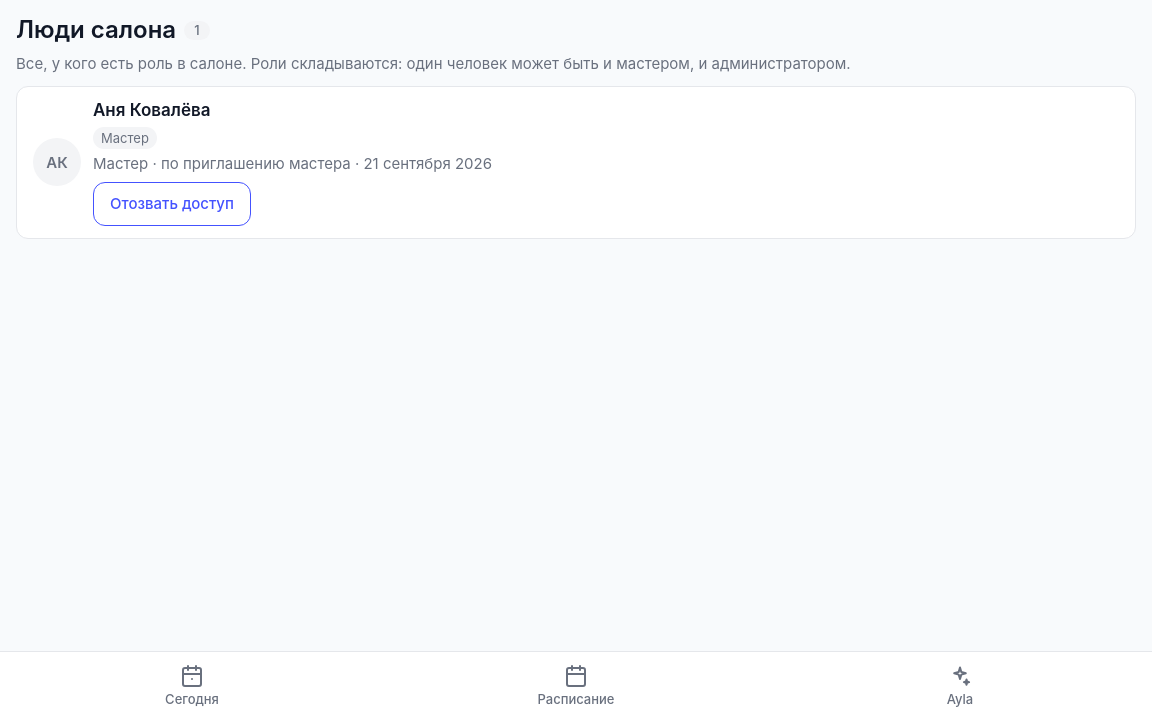
it: what actually reaches the server › re-reads the roster so the row can say «доступ отозван»
Click the button with aria-label "Отозвать доступ у Аня Ковалёва": (172,204) [93,182,251,226]
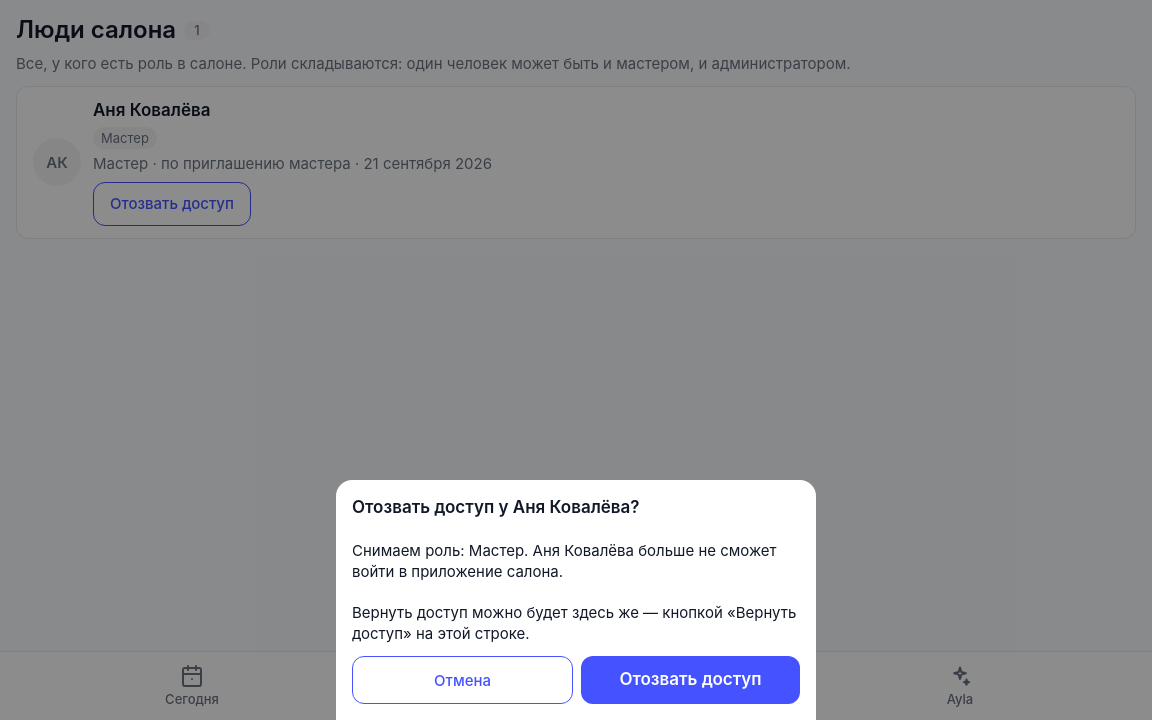
Click the button "Отозвать доступ": (690,680) [581,656,800,704]
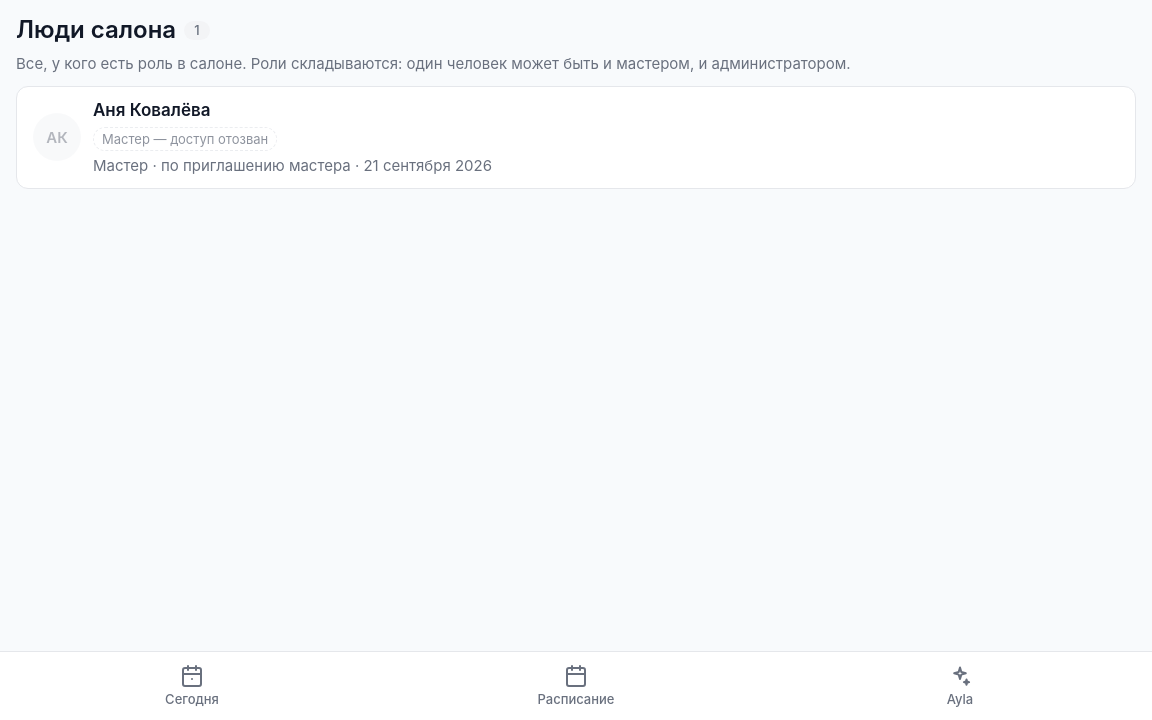
Now the text "Мастер — доступ отозван" is shown, box [93,127,277,151]
Now the text "Отозвать доступ у Аня Ковалёва" is gone
